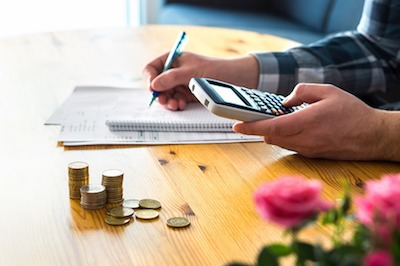Calculator: (187, 76, 349, 130)
